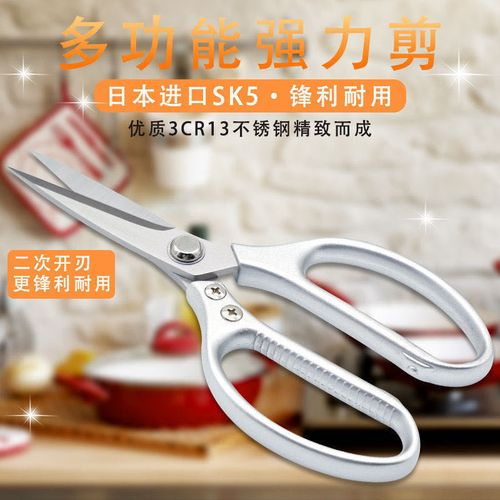scissor: (6, 146, 494, 484)
